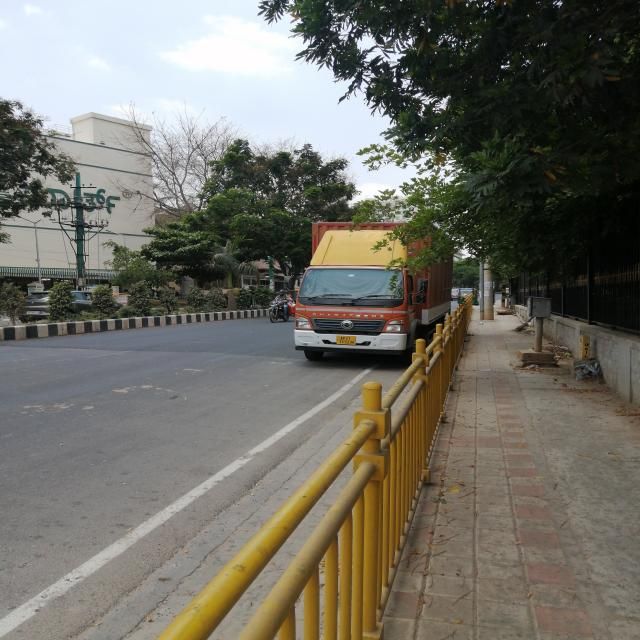Truck: (292, 219, 414, 351)
